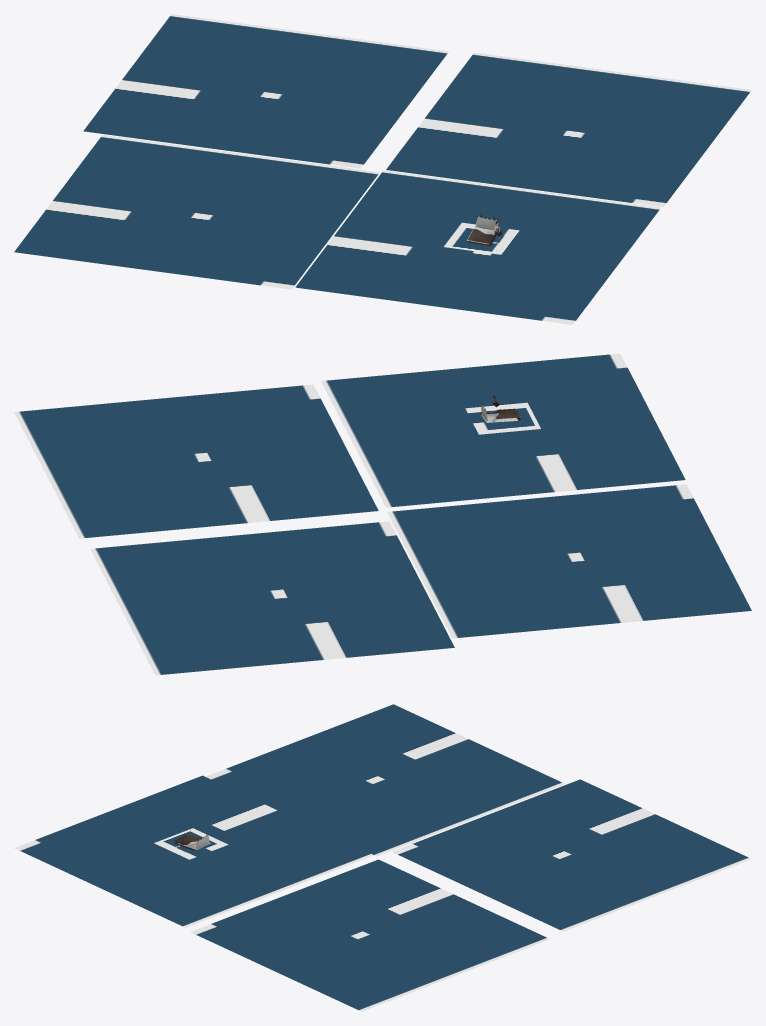
File: night.dae
The picture shows the model from 3 angles, top to bottom: view 1: azimuth 30°, elevation 25°; view 2: azimuth 150°, elevation 25°; view 3: azimuth 270°, elevation 25°; orthographic projection. The views are drawn at different scales.
Parts seen in each view (by area): view 1: waves.2, waves.3, waves.1, waves, floor; view 2: waves.3, waves.1, waves.2, waves, floor; view 3: waves.2, waves.3, waves.1, waves, floor.
Boxes of the visible parts, x1,y1,x2,y2 form: waves.2: (83,14,448,168); waves.3: (386,52,751,207); waves.1: (14,135,379,289); waves: (295,170,660,324); floor: (444,222,519,254); waves.3: (14,384,378,538); waves.1: (387,484,751,638); waves.2: (90,521,454,675); waves: (321,353,685,507); floor: (465,402,540,434); waves.2: (392,779,751,931); waves.3: (190,859,549,1011); waves.1: (205,704,564,856); waves: (14,775,373,927); floor: (154,828,228,859).
Size of what is drawn, in the model's own units: 4613 by 178 by 4679.
6 materials, 6 textured.
